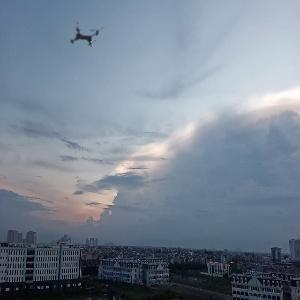drone: (53, 3, 120, 70)
